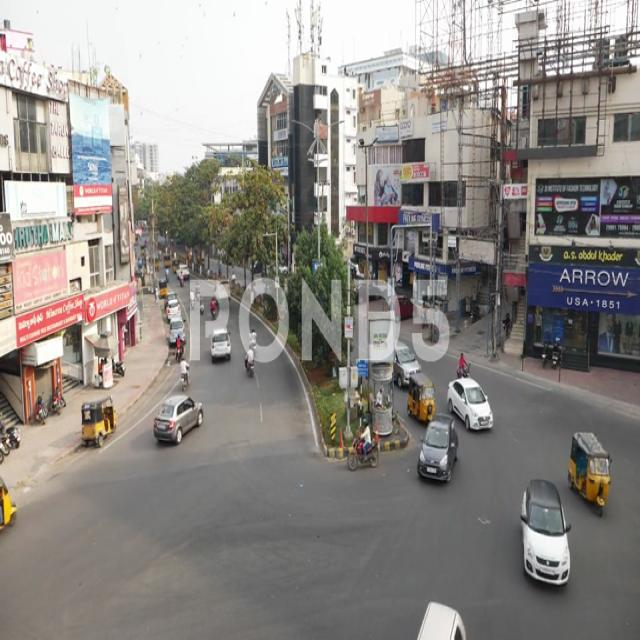car: (521, 476, 572, 592), (448, 376, 505, 443), (418, 424, 458, 489), (154, 396, 205, 446), (211, 326, 232, 366)
motorbike: (348, 422, 382, 472), (178, 355, 191, 391), (242, 347, 255, 377)
rikshaw: (574, 431, 616, 521), (80, 400, 118, 449), (411, 376, 438, 422)
